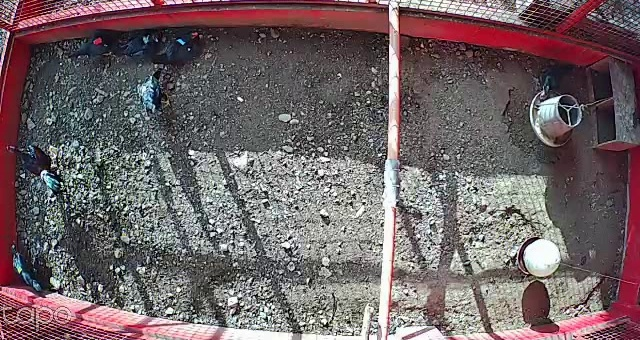Chicken: (4, 238, 56, 304), (150, 26, 211, 71), (63, 25, 130, 65), (523, 57, 582, 102), (132, 66, 176, 123), (121, 19, 174, 66)
Rooster: (7, 142, 65, 196)
Saddle_Color_Blue: (176, 38, 187, 45)
Saddle_Color_Red: (93, 39, 104, 45)
Saddle_Color_YellowGreen: (16, 260, 22, 275)
